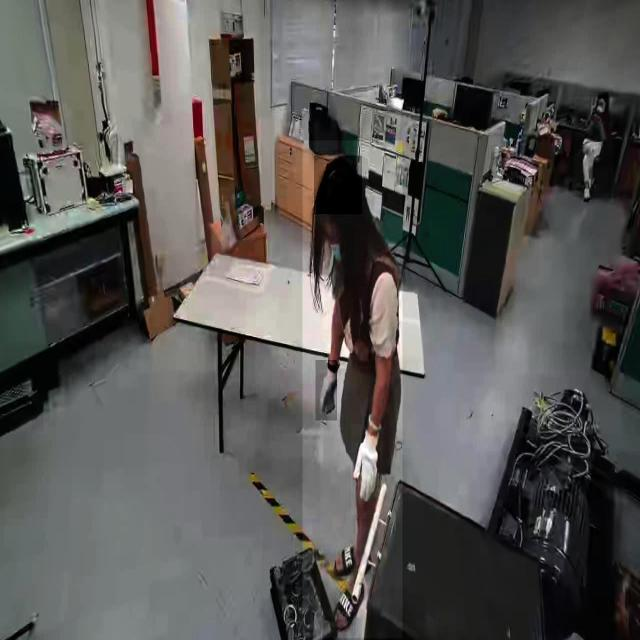hand_glove: (351, 424, 383, 516), (316, 360, 338, 421)
head_nohelmet: (314, 156, 362, 215), (596, 92, 610, 100)
person: (303, 141, 403, 639), (574, 97, 614, 196)
